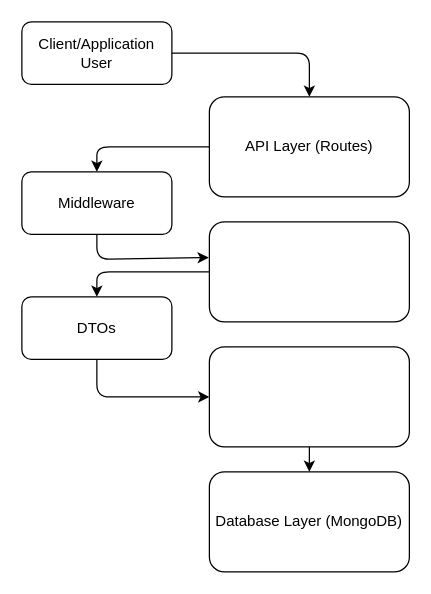
Image size: 431x594. Some labels were removed from this diagram. Each missing label, with the centre of its shape:
Controllers: the point at 308,271
Service Layer: the point at 308,396
